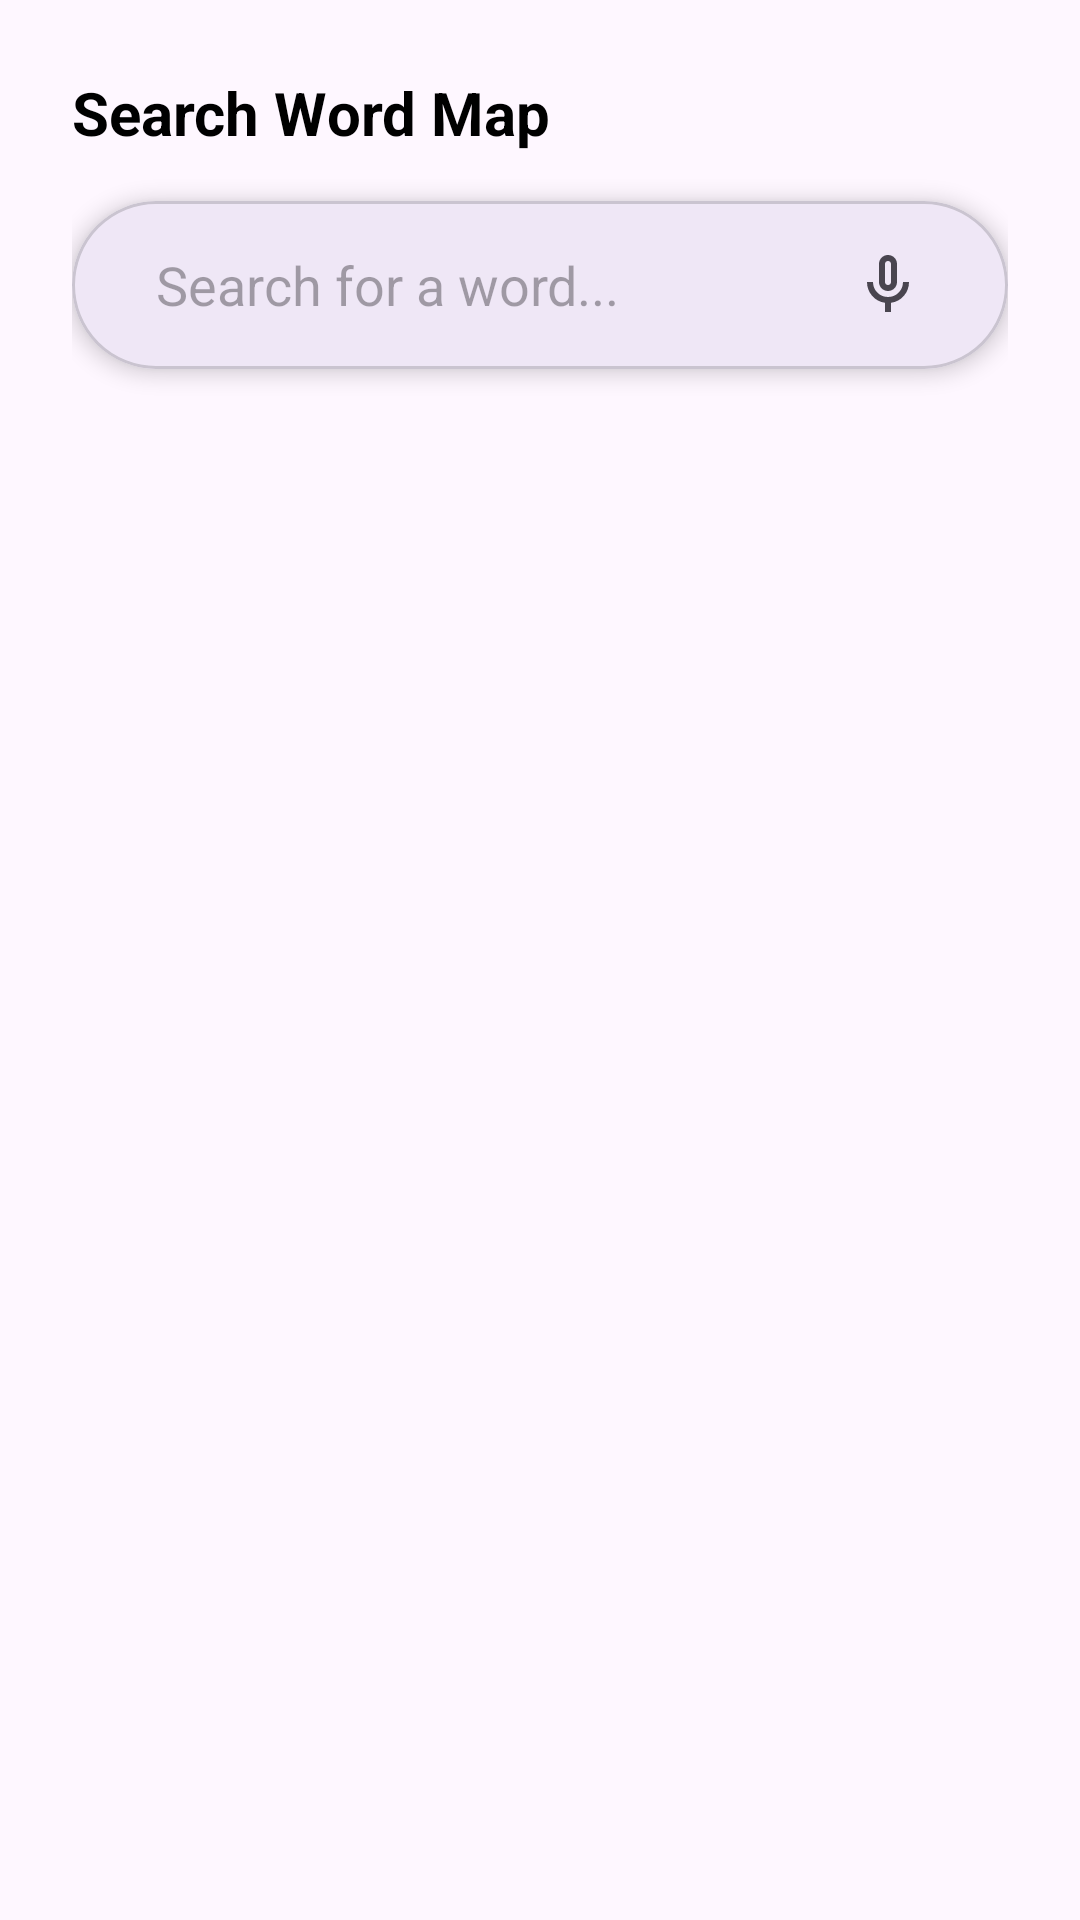

Icon click points for this 1080 x 1920 phone screenshot, format (x=x, y=y):
microphone: (x=888, y=283)
